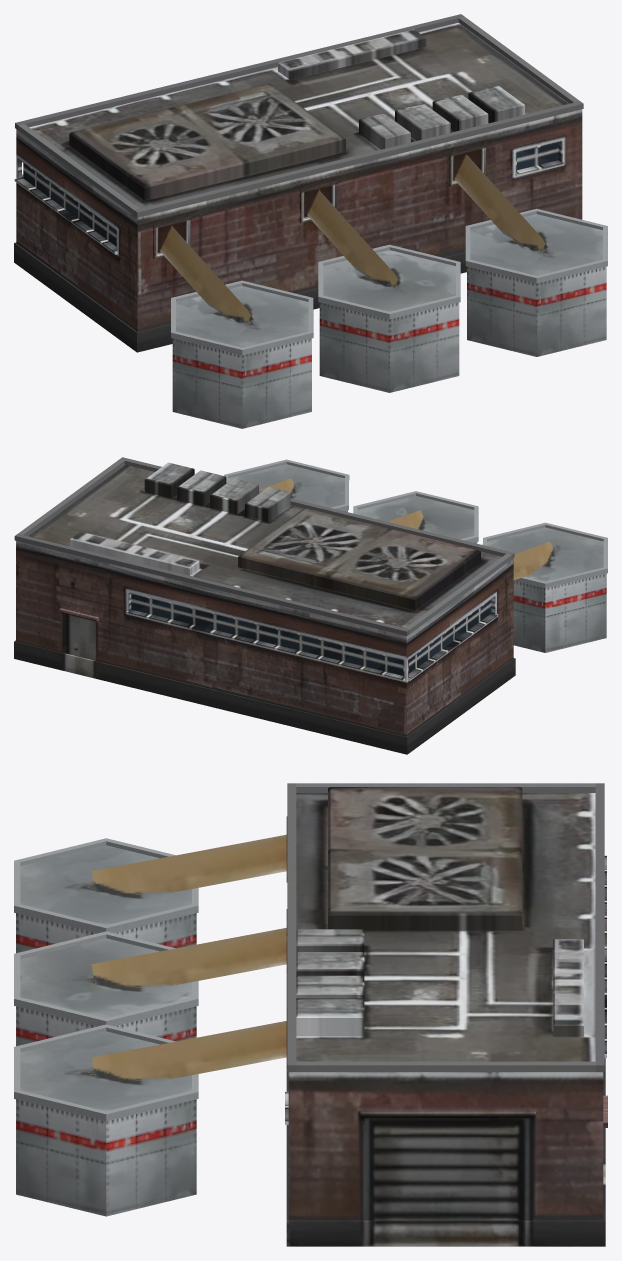
The model's file is wasteprocessor_cad.glb.
3 views of the same model, one above another, from view 1: azimuth 30°, elevation 25°; view 2: azimuth 150°, elevation 25°; view 3: azimuth 270°, elevation 25° (orthographic). The views are drawn at different scales.
Parts seen in each view (by area): view 1: WasteProcessor; view 2: WasteProcessor; view 3: WasteProcessor.
Boxes of the visible parts, x1,y1,x2,y2 form: WasteProcessor: (14, 14, 607, 428); WasteProcessor: (14, 457, 607, 754); WasteProcessor: (14, 783, 607, 1246).
Size of the model in its own units: 16.89 by 5 by 13.84.
1 material, 1 textured.
